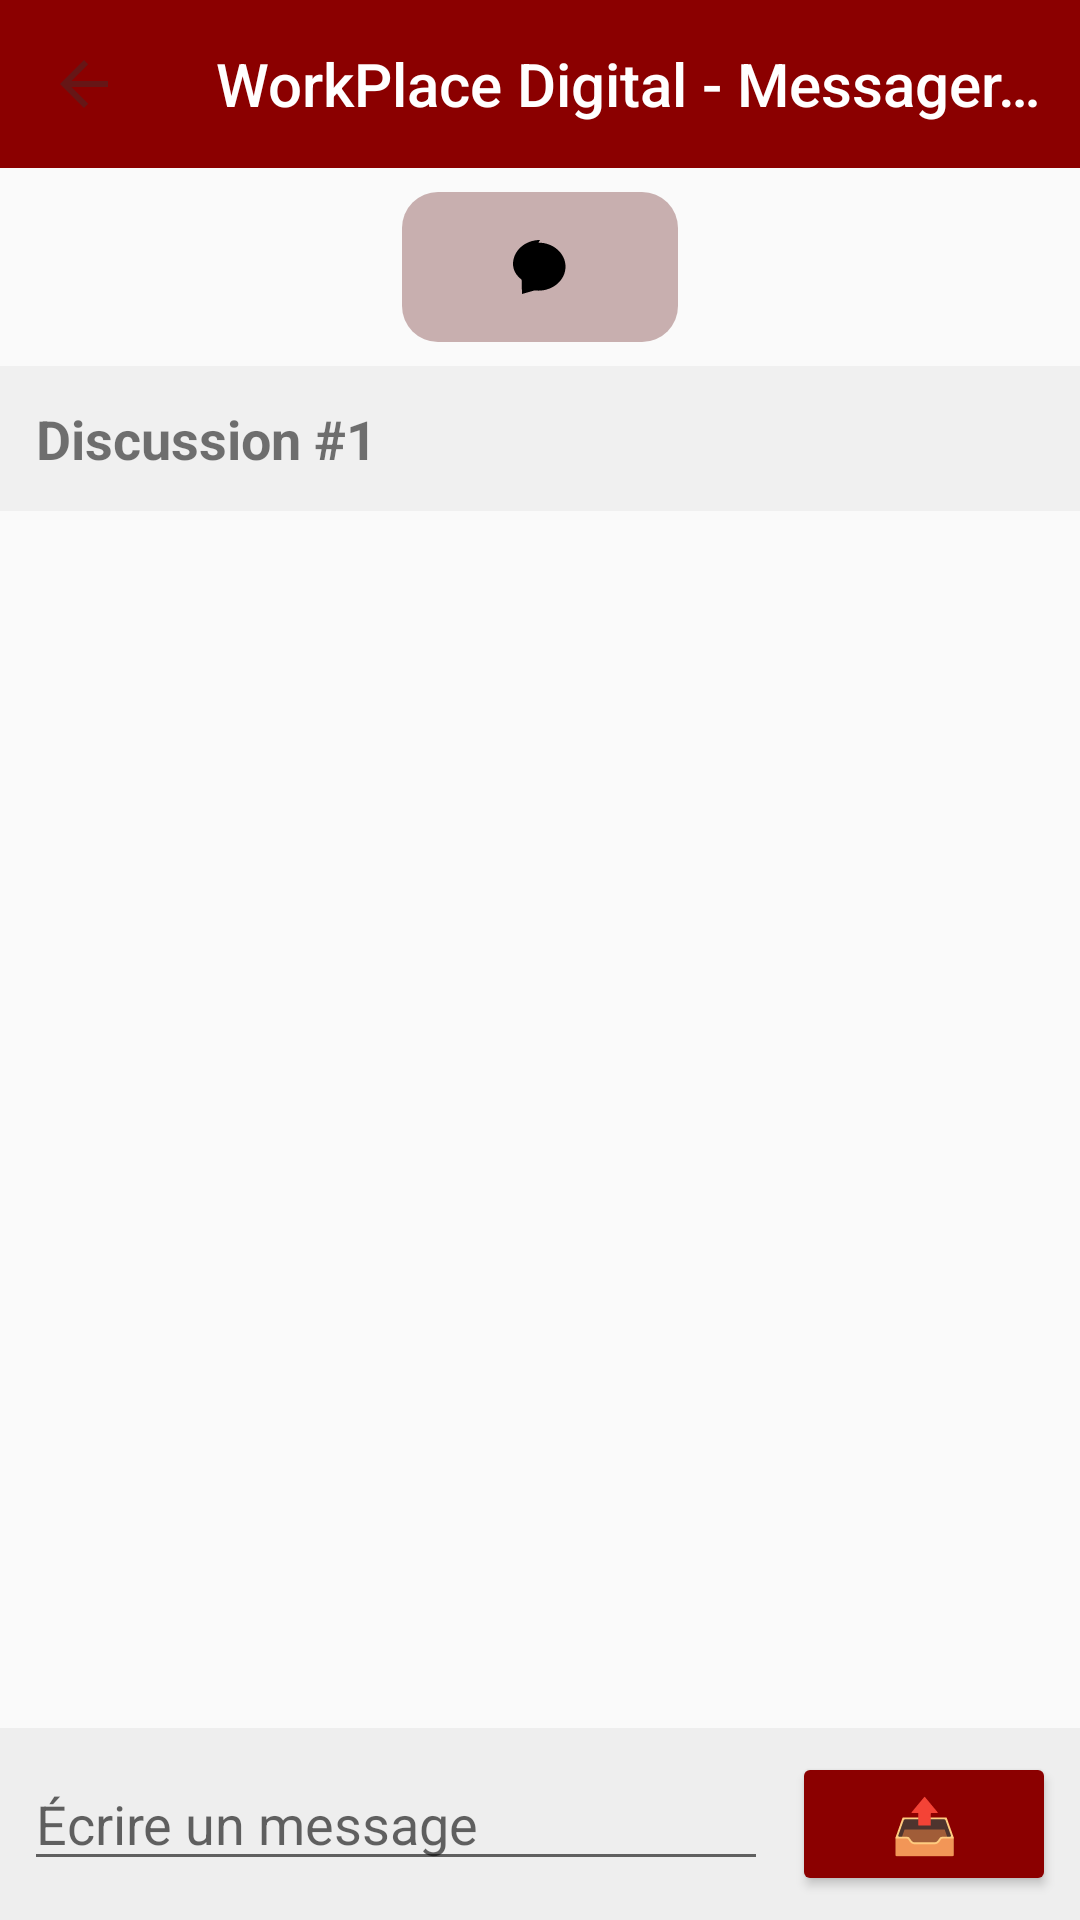

Screen size 1080px×1920px. Icon name, then its box in pixels as BBox(x1, y1, x2, y2):
Open discussions: BBox(402, 192, 678, 342)
